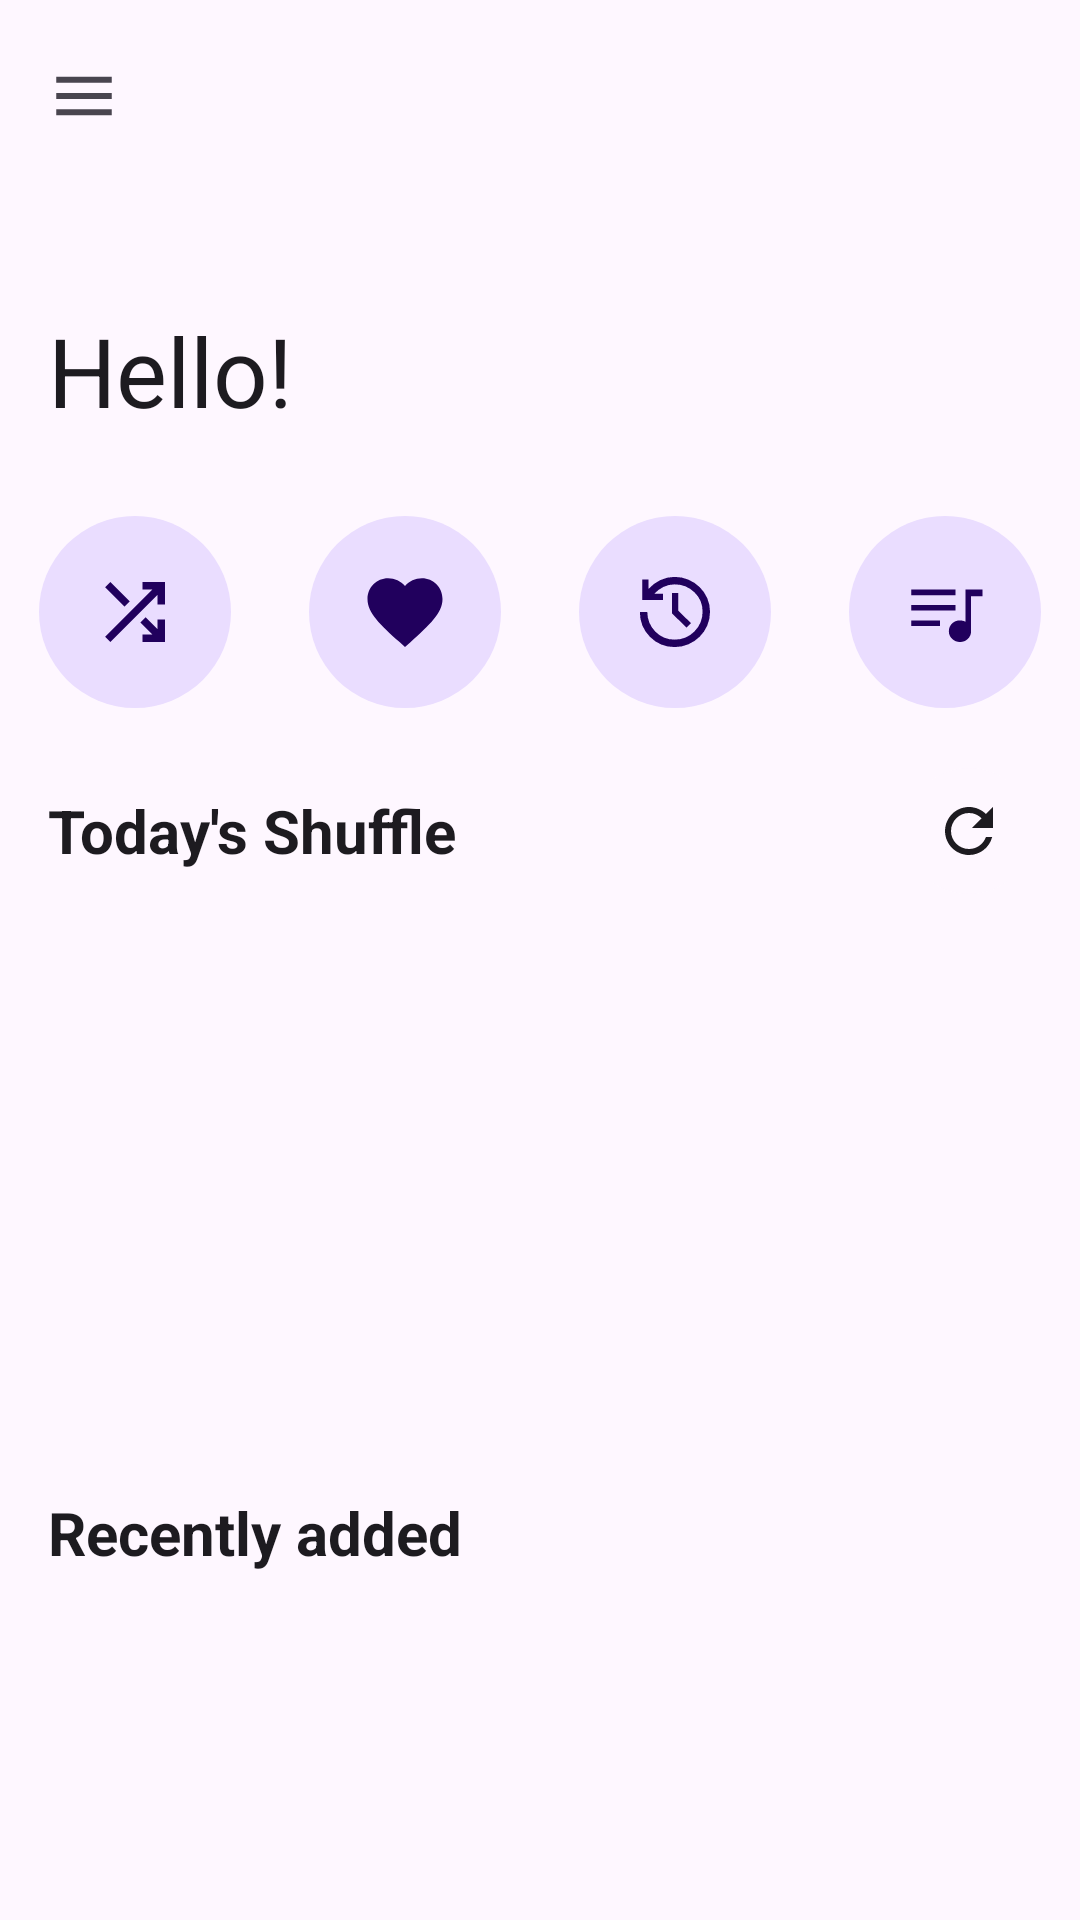

Where to tap for icons on this 1080x1920 app screen, as (x,y):
favourite: (405,612)
history: (675,612)
playlist: (945,612)
refresh: (969,831)
